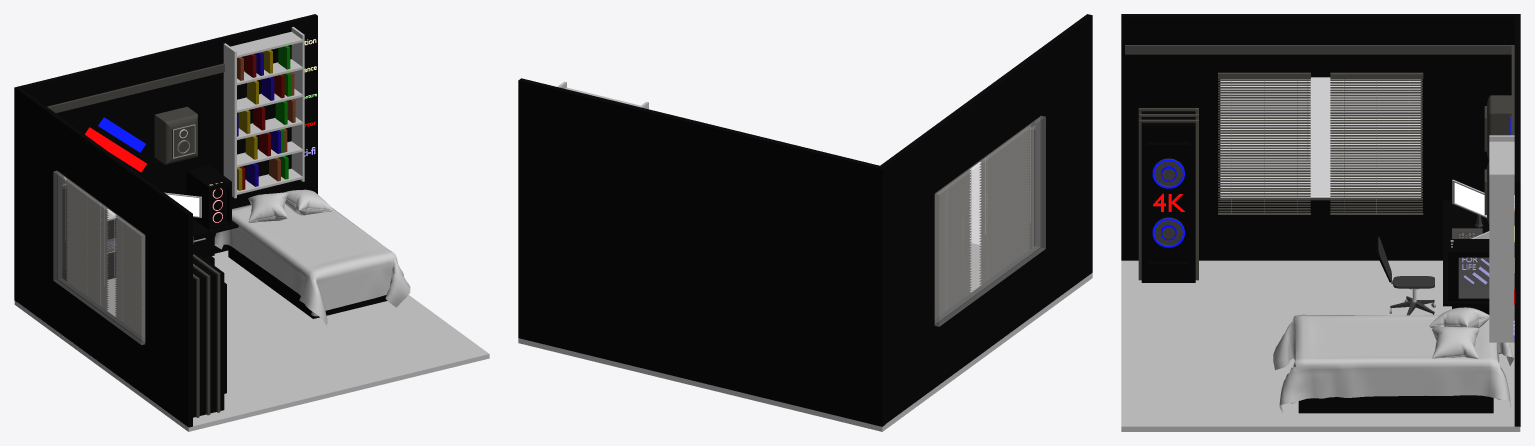
3 renders of one model, left to right at view 1: azimuth 30°, elevation 25°; view 2: azimuth 150°, elevation 25°; view 3: azimuth 270°, elevation 25°, orthographic. The views are drawn at different scales.
Parts seen in each view (by area): view 1: Cube.004_51, Cube_49, Cube.003_50, Plane.008_116, Plane.011_228, Shelves1_1, Venetian_slats.001_21, Cube.017_74, Venetian_slats_44, Cube.015_73, Cube.027_98, Cube.031_121 (+11 smaller); view 2: Cube.003_50, Cube.004_51, Plane.011_228, Venetian_slats_44, Venetian_slats.001_21, Cube_49; view 3: Cube.004_51, Cube_49, Plane.008_116, Venetian_slats.001_21, Venetian_slats_44, Plane.011_228, Cube.017_74, Shelves1_1, Cube.005_120, Cube.001_115, Cube.003_50, Cube.027_98 (+12 smaller).
Boxes of the visible parts, left/top/right/bottom form: Cube.004_51: left=17, top=88, right=192, bottom=427; Cube_49: left=14, top=250, right=489, bottom=431; Cube.003_50: left=14, top=14, right=317, bottom=301; Plane.008_116: left=214, top=204, right=410, bottom=325; Plane.011_228: left=53, top=171, right=144, bottom=344; Shelves1_1: left=223, top=27, right=304, bottom=198; Venetian_slats.001_21: left=66, top=179, right=108, bottom=310; Cube.017_74: left=193, top=255, right=226, bottom=417; Venetian_slats_44: left=115, top=215, right=145, bottom=338; Cube.015_73: left=154, top=106, right=197, bottom=164; Cube.027_98: left=186, top=165, right=231, bottom=229; Cube.031_121: left=47, top=63, right=224, bottom=112; Cube.003_50: left=518, top=78, right=885, bottom=426; Cube.004_51: left=880, top=14, right=1092, bottom=423; Plane.011_228: left=935, top=116, right=1045, bottom=326; Venetian_slats_44: left=979, top=126, right=1030, bottom=284; Venetian_slats.001_21: left=934, top=169, right=971, bottom=318; Cube_49: left=518, top=243, right=1092, bottom=431; Cube.004_51: left=1121, top=14, right=1514, bottom=260; Cube_49: left=1121, top=260, right=1520, bottom=431; Plane.008_116: left=1273, top=314, right=1513, bottom=412; Venetian_slats.001_21: left=1330, top=79, right=1422, bottom=212; Venetian_slats_44: left=1218, top=79, right=1310, bottom=212; Plane.011_228: left=1220, top=77, right=1420, bottom=197; Cube.017_74: left=1141, top=107, right=1195, bottom=282; Shelves1_1: left=1489, top=135, right=1514, bottom=342; Cube.005_120: left=1125, top=45, right=1514, bottom=54; Cube.001_115: left=1298, top=395, right=1493, bottom=413; Cube.003_50: left=1514, top=14, right=1520, bottom=426; Cube.027_98: left=1448, top=239, right=1489, bottom=301.
Size of the model in its own units: 4.36 by 2.97 by 4.3.
